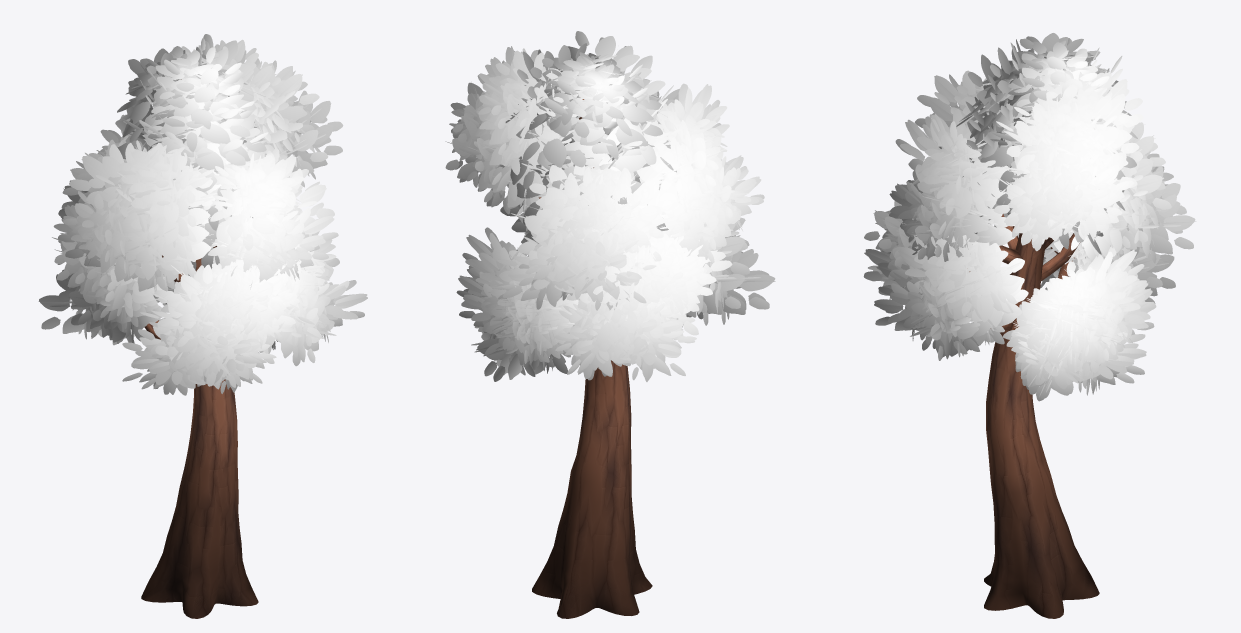
Rendered from CommonTree_1.gltf.
3 renders of one model, left to right at view 1: azimuth 30°, elevation 25°; view 2: azimuth 150°, elevation 25°; view 3: azimuth 270°, elevation 25°, orthographic. The views are drawn at different scales.
Visible parts, largest first — view 1: CommonTree_1; view 2: CommonTree_1; view 3: CommonTree_1.
Part boxes in pixels (x1,y1,x2,y2): CommonTree_1: (38,34,367,618); CommonTree_1: (445,31,775,618); CommonTree_1: (863,33,1196,618).
Size of the model in its own units: 4.31 by 7.26 by 4.58.
2 materials, 2 textured.
